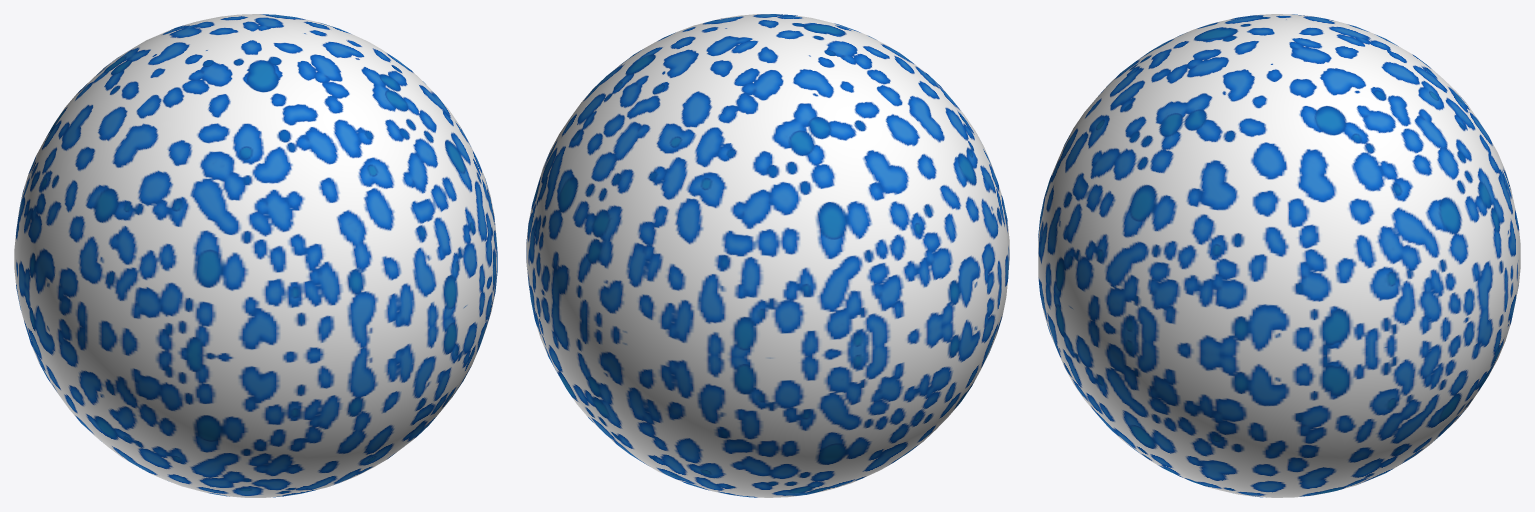
File: Batik_Blue.fbx
3 renders of one model, left to right at view 1: azimuth 30°, elevation 25°; view 2: azimuth 150°, elevation 25°; view 3: azimuth 270°, elevation 25°, orthographic.
Parts seen in each view (by area): view 1: Batik_Blue; view 2: Batik_Blue; view 3: Batik_Blue.
Boxes of the visible parts, x1=… form: Batik_Blue: x1=14, y1=14, x2=497, y2=497; Batik_Blue: x1=526, y1=14, x2=1009, y2=497; Batik_Blue: x1=1038, y1=14, x2=1520, y2=497.
Size of the model in its own units: 200 by 200 by 199.
1 material, 1 textured.
